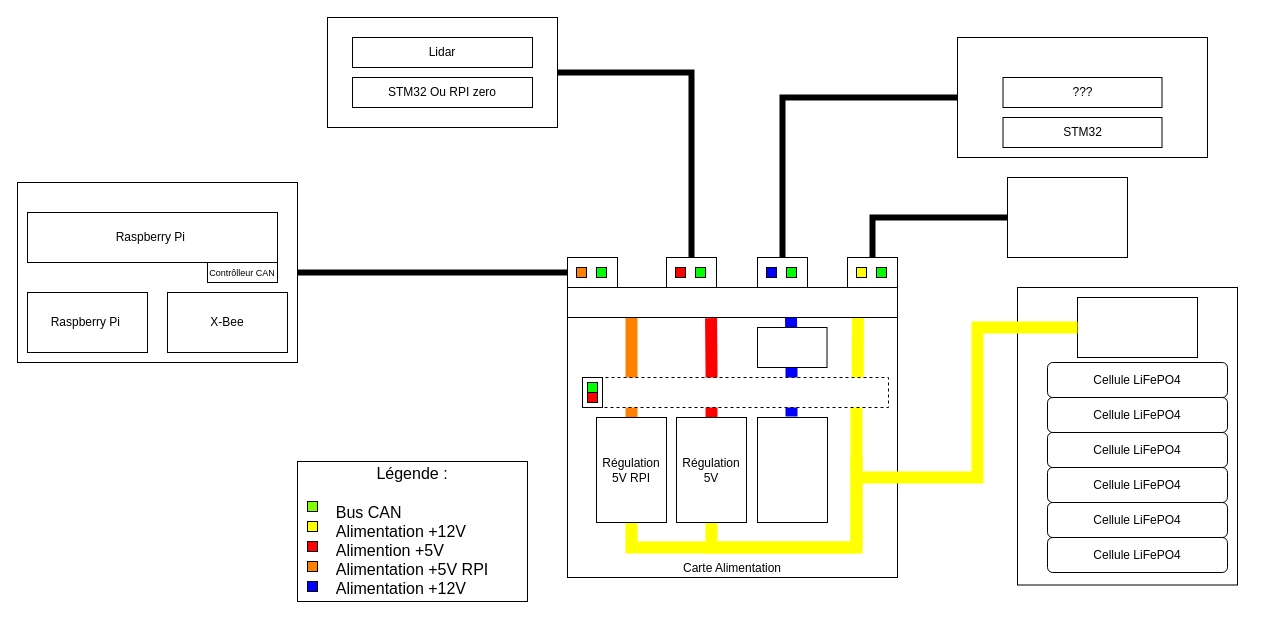
Image size: 1275x619. Some labels were removed from this diagram. The shapes that lost their labels are listed below. From the top down, each one's box as (x1, y1, x2, y2) in pixels, then its label:
(326, 16, 558, 128): Odométrie
(956, 36, 1208, 158): Carte bras
(1006, 176, 1128, 258): Base Roulante
(16, 182, 298, 362): HAT Raspberry Pi
(566, 286, 898, 318): Connecteurs
(756, 326, 827, 368): Relais de coupure
(1076, 296, 1198, 358): BMS
(586, 376, 888, 408): Carte Consommation
(756, 416, 828, 522): Régulation 12V
